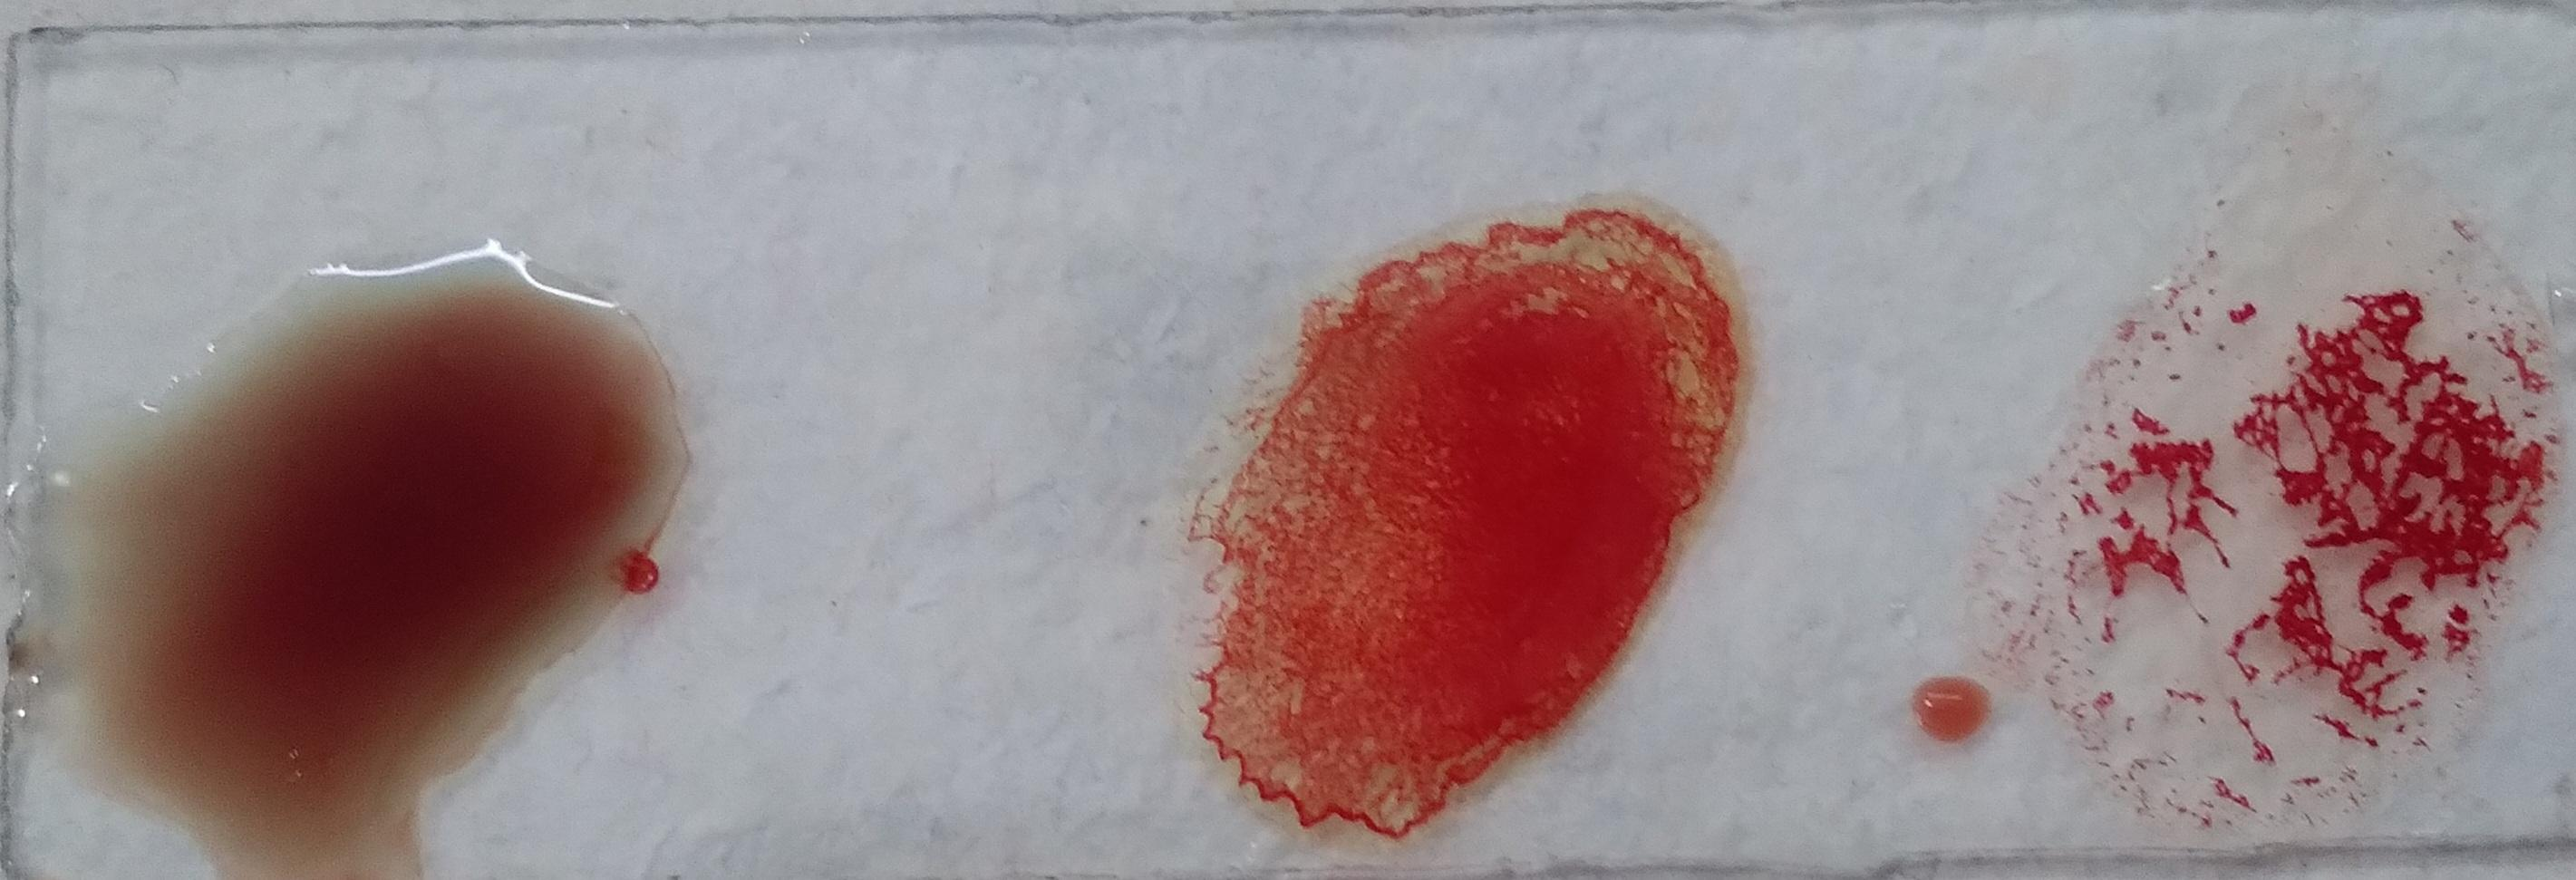B: (836, 30, 1400, 673)
D: (20, 28, 562, 698)
